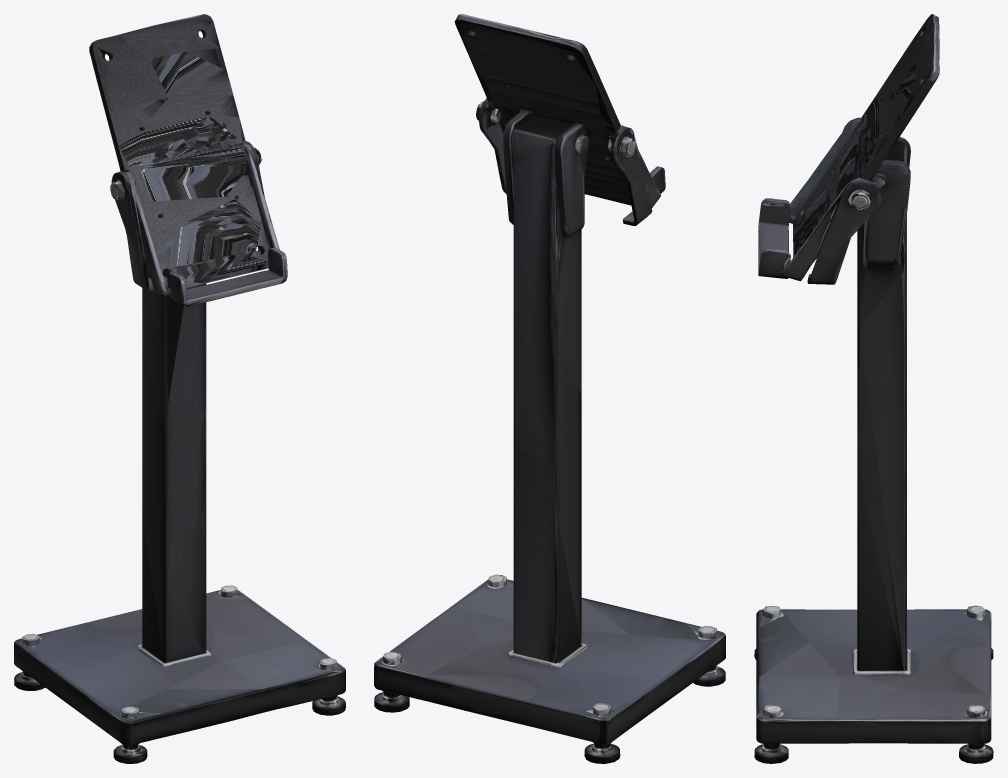
File: Remote stand.fbx
3 views of the same model, side by side, from view 1: azimuth 30°, elevation 25°; view 2: azimuth 150°, elevation 25°; view 3: azimuth 270°, elevation 25° (orthographic). The views are drawn at different scales.
Visible parts, largest first — view 1: TabletStand_LOD0; view 2: TabletStand_LOD0; view 3: TabletStand_LOD0.
Part boxes in pixels (bbox=[...]): TabletStand_LOD0: bbox=[14, 14, 345, 763]; TabletStand_LOD0: bbox=[374, 14, 725, 763]; TabletStand_LOD0: bbox=[754, 14, 993, 763].
Size of the model in its own units: 36.05 by 98.02 by 31.91.
Materials: 1 (1 with a texture image).
